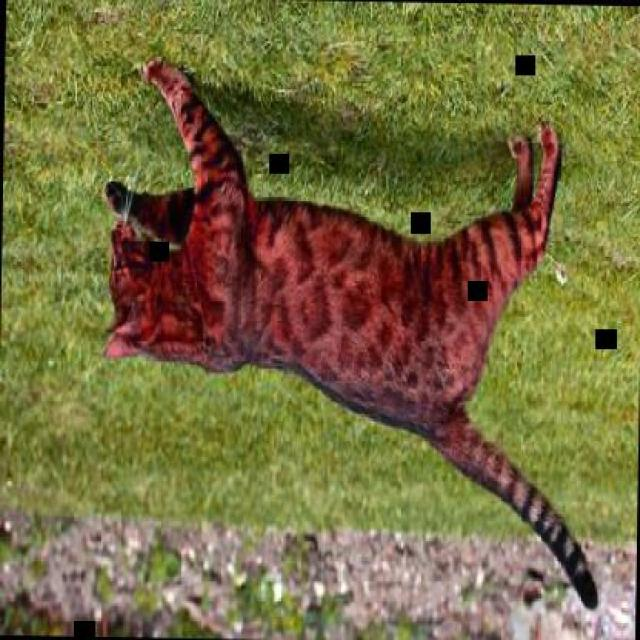cat: (96, 52, 609, 617)
